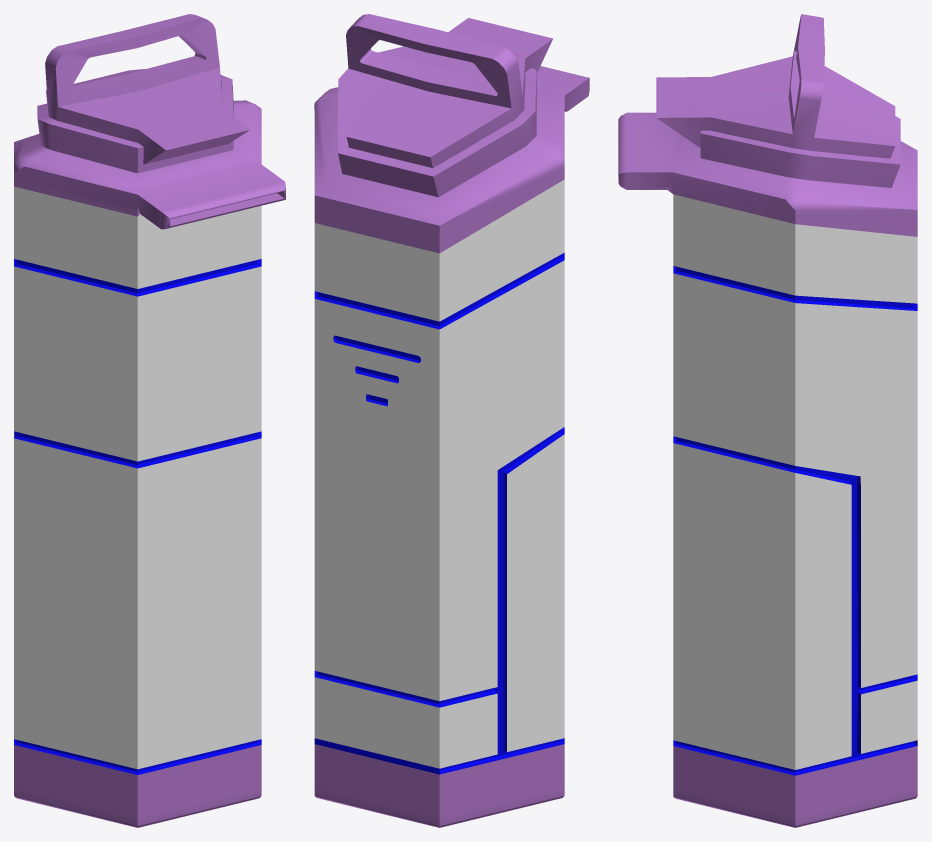
File: toaster.glb
3 views of the same model, side by side, from view 1: azimuth 30°, elevation 25°; view 2: azimuth 150°, elevation 25°; view 3: azimuth 270°, elevation 25° (orthographic). The views are drawn at different scales.
Visible parts, largest first — view 1: pasted__pasted__polySurface6_Bottles2Finished:pasted__paste; view 2: pasted__pasted__polySurface6_Bottles2Finished:pasted__paste; view 3: pasted__pasted__polySurface6_Bottles2Finished:pasted__paste.
Part boxes in pixels (bbox=[...]): pasted__pasted__polySurface6_Bottles2Finished:pasted__paste: bbox=[14, 14, 285, 827]; pasted__pasted__polySurface6_Bottles2Finished:pasted__paste: bbox=[314, 14, 589, 827]; pasted__pasted__polySurface6_Bottles2Finished:pasted__paste: bbox=[618, 14, 917, 827].
Bounding box in the file's own units: 0.1438 × 0.4067 × 0.1524.
